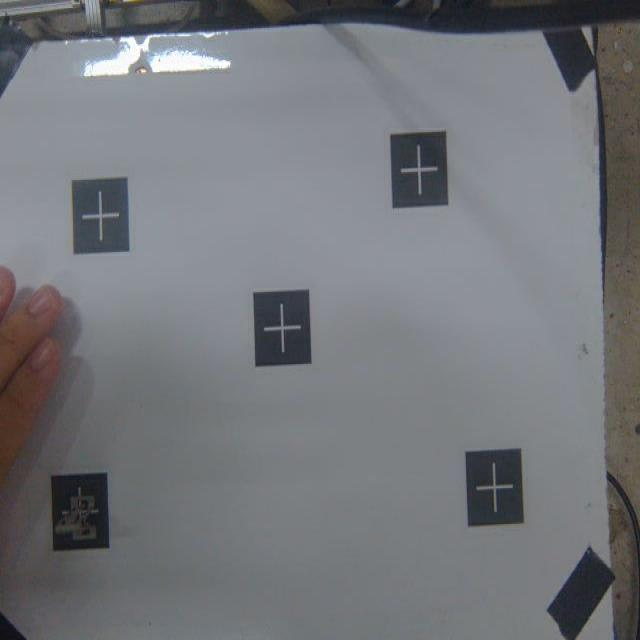pick4: (52, 478, 107, 544)
